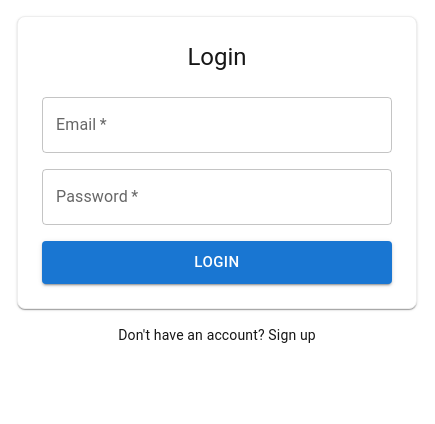
Test: Login Page › shows error message on invalid credentials
Step 1. Type "wrong@example.com" into the field labelled "Email *" → (217, 125), box [42, 97, 392, 153]
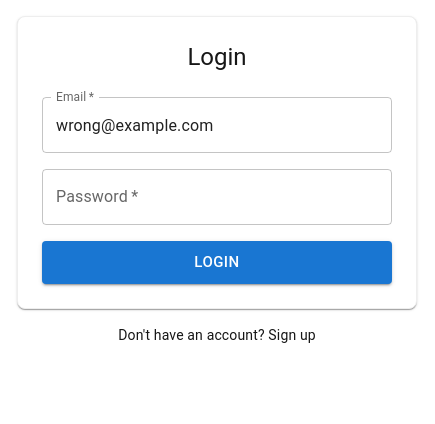
Step 2. Type "wrongpass" into the password field labelled "Password *" → (217, 197), box [42, 169, 392, 225]
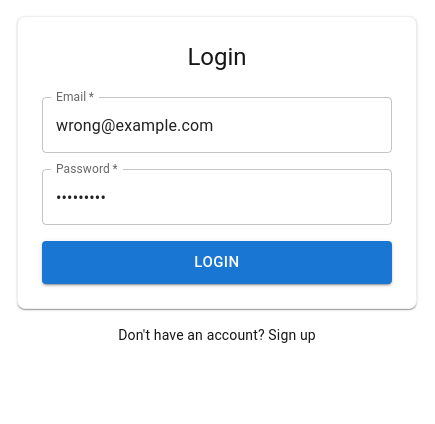
Step 3. Click the button "Login" → (217, 263), box [42, 241, 392, 284]
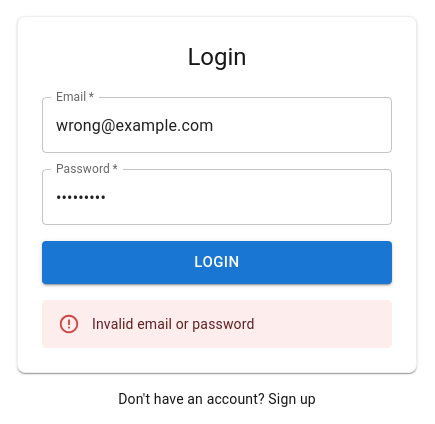
expect the text "Invalid email or password" is shown: met, box [92, 316, 254, 332]
